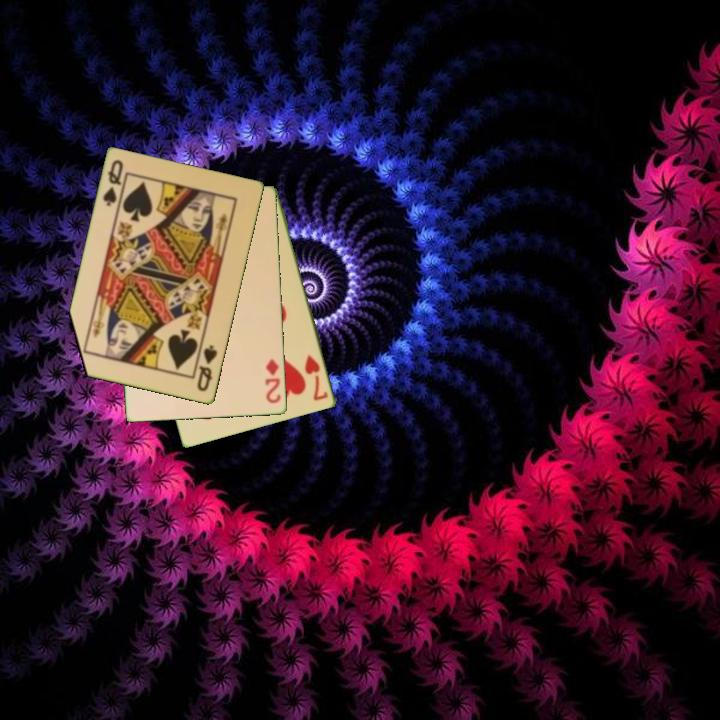2d: (262, 356, 284, 406)
7h: (301, 351, 331, 404)
Qs: (99, 156, 126, 209), (194, 342, 220, 395)
